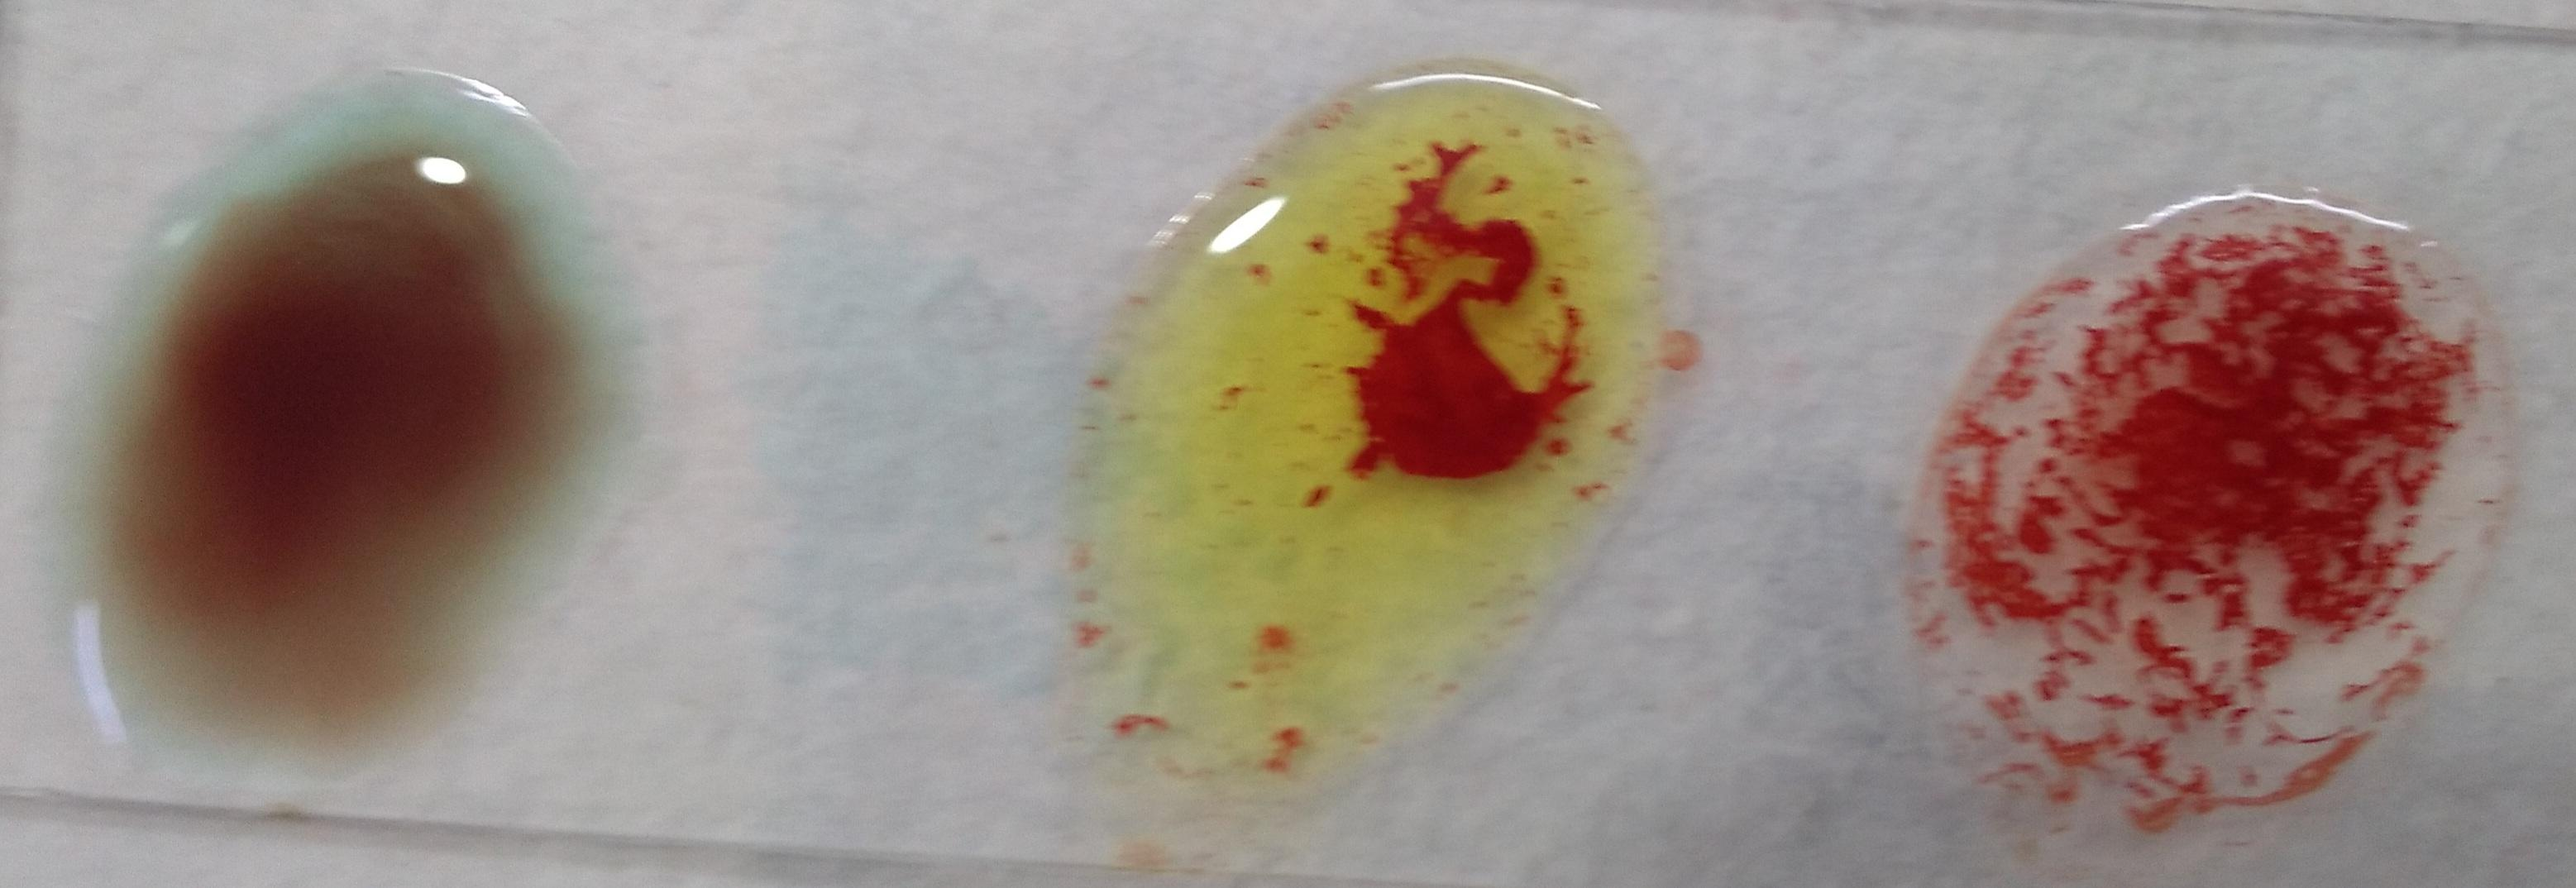B: (1114, 56, 1663, 812)
D: (1902, 190, 2522, 835)
